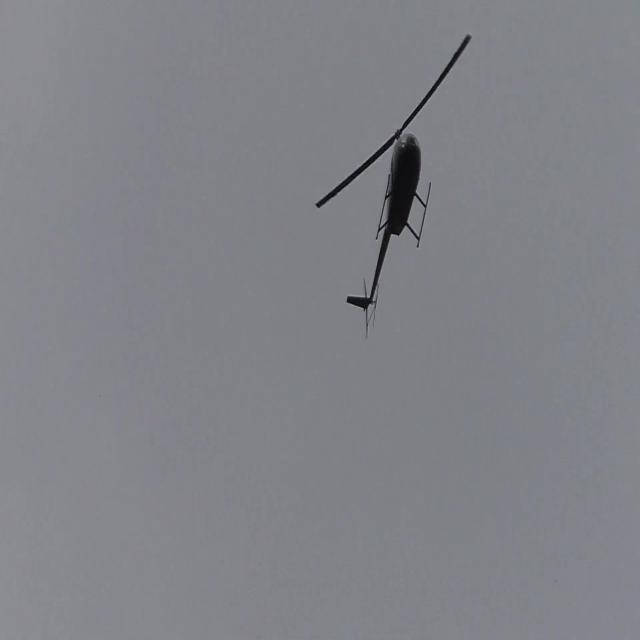CIV_HELO: (346, 127, 432, 307)
